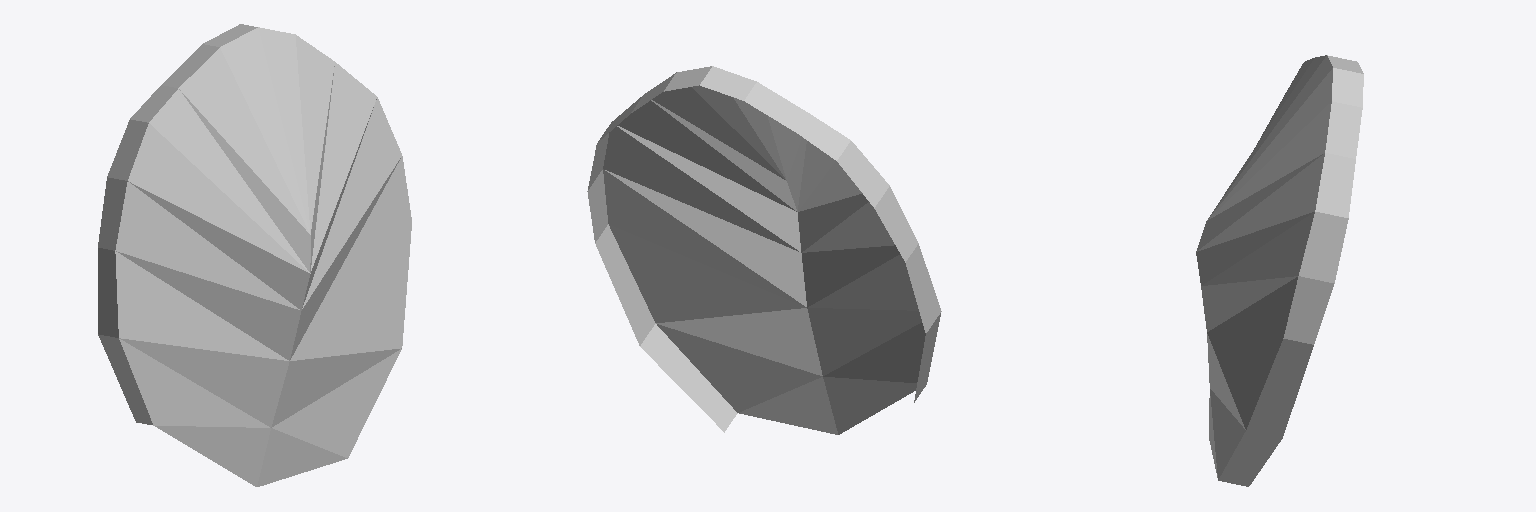
Rendered from arbre6.obj.
3 views of the same model, side by side, from view 1: azimuth 30°, elevation 25°; view 2: azimuth 150°, elevation 25°; view 3: azimuth 270°, elevation 25° (orthographic).
Size of the model in its own units: 0.3513 by 0.4302 by 0.1618.